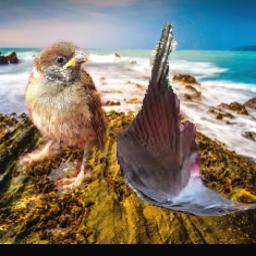Cuckoo: (118, 21, 256, 216)
Sparrow: (16, 40, 132, 190)
